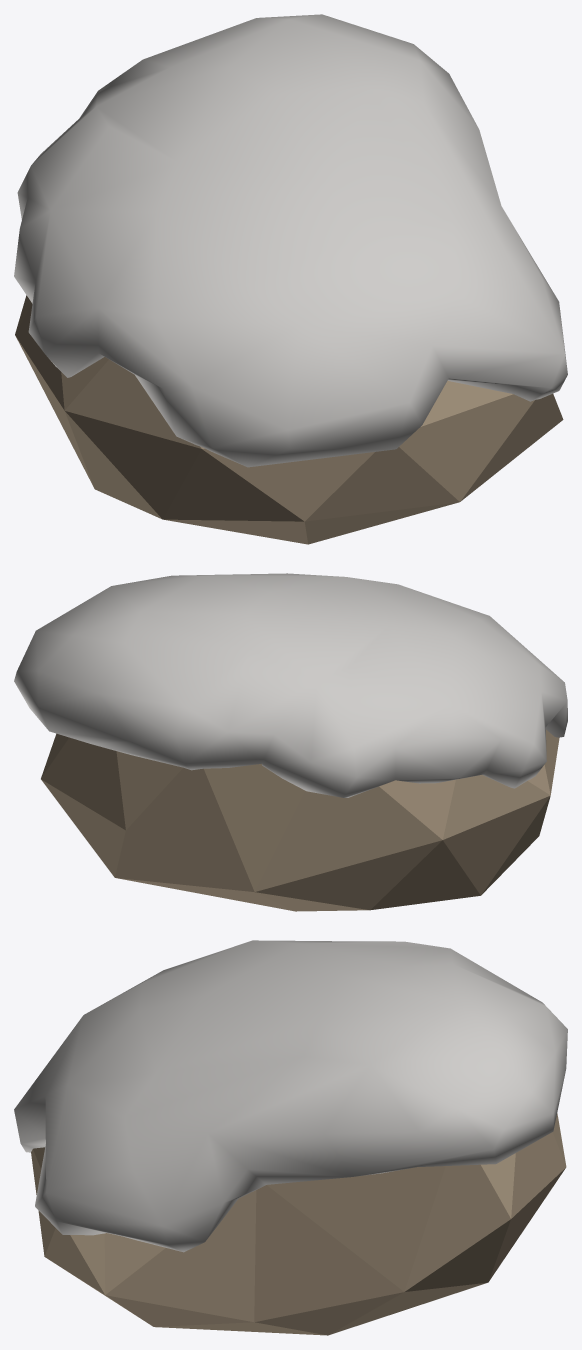
The model's file is Rock_w_Snow.fbx.
3 renders of one model, top to bottom at view 1: azimuth 30°, elevation 25°; view 2: azimuth 150°, elevation 25°; view 3: azimuth 270°, elevation 25°, orthographic. The views are drawn at different scales.
Visible parts, largest first — view 1: Rock_w_Snow; view 2: Rock_w_Snow; view 3: Rock_w_Snow.
Part boxes in pixels (x1,y1,x2,y2): Rock_w_Snow: (14, 14, 567, 544); Rock_w_Snow: (14, 573, 567, 911); Rock_w_Snow: (14, 940, 567, 1335).
Bounding box in the file's own units: 457 × 330 × 486.
